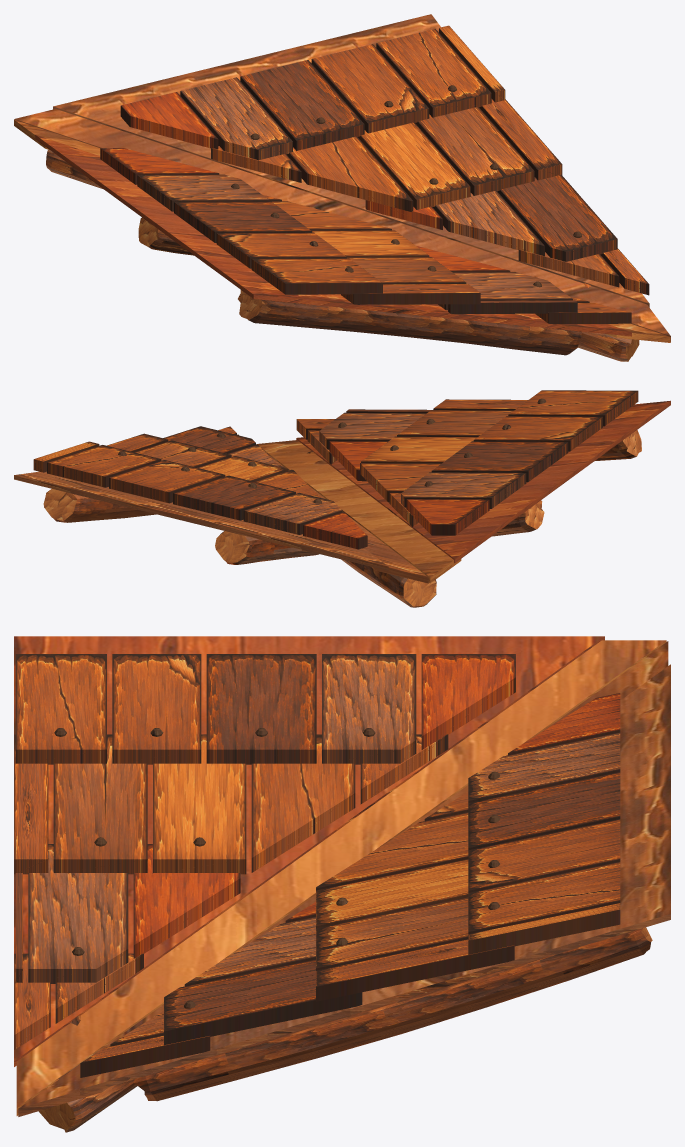
Rendered from roof_26_inner__plank_root.glb.
3 views of the same model, one above another, from view 1: azimuth 30°, elevation 25°; view 2: azimuth 150°, elevation 25°; view 3: azimuth 270°, elevation 25° (orthographic). The views are drawn at different scales.
Parts seen in each view (by area): view 1: model; view 2: model; view 3: model.
Part boxes in pixels (x1,y1,x2,y2): model: (14,14,670,361); model: (14,390,670,607); model: (14,636,670,1132).
Bounding box in the file's own units: 1.99 × 0.7958 × 1.99.
24 materials, 24 textured.
